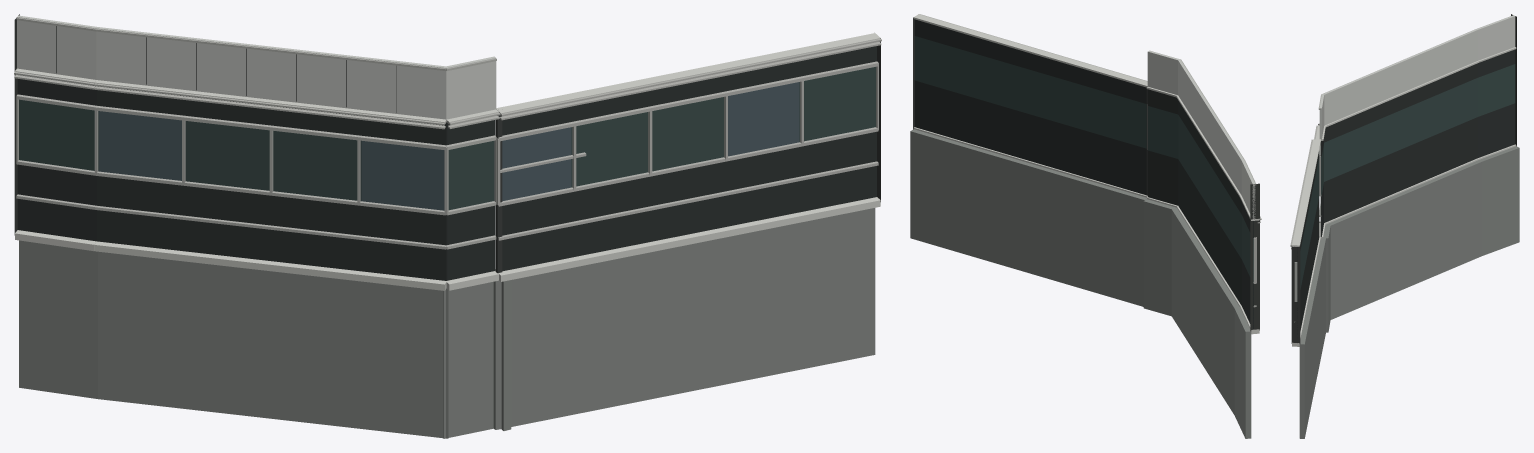
File: d12-magnet-lower.glb
The picture shows the model from 3 angles, left to right: view 1: azimuth 30°, elevation 25°; view 2: azimuth 150°, elevation 25°; view 3: azimuth 270°, elevation 25°; orthographic projection. The views are drawn at different scales.
Parts seen in each view (by area): view 1: inferred_host_adapter; view 2: inferred_host_adapter; view 3: inferred_host_adapter.
Boxes of the visible parts, x1,y1,x2,y2 form: inferred_host_adapter: (14, 14, 881, 438); inferred_host_adapter: (910, 14, 1261, 438); inferred_host_adapter: (1290, 14, 1519, 438).
Size of the model in its own units: 20.11 by 10.44 by 9.68.
1 material, 1 textured.
